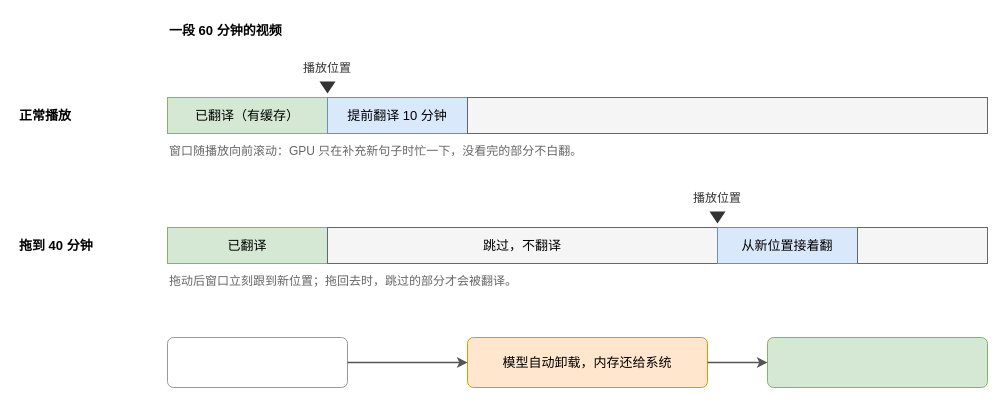
Some shapes in this 1005 by 405 pixel diagram are drawn without their labels. The shapes that lost their labels are listed below. From the top down, each one's centre as x and y in pixels, then its label:
pixel 727 115: 暂不翻译
pixel 257 362: 停止观看 10 分钟
pixel 877 362: 再看视频时自动按需加载
